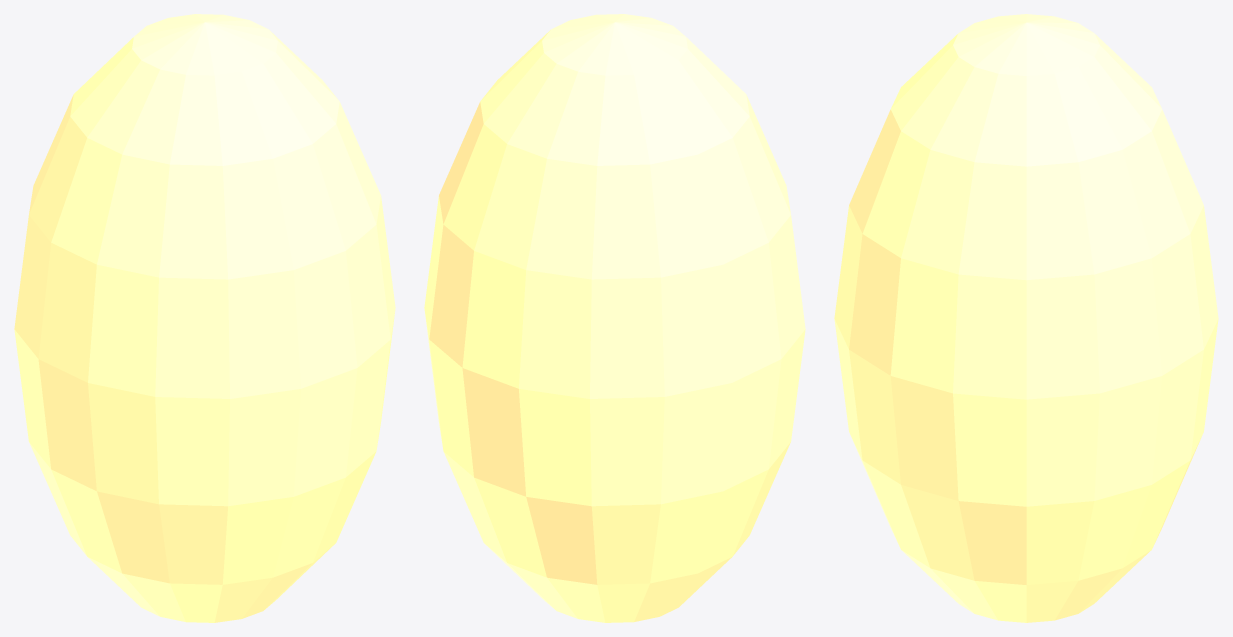
The model's file is RebirthBoostProp.glb.
3 renders of one model, left to right at view 1: azimuth 30°, elevation 25°; view 2: azimuth 150°, elevation 25°; view 3: azimuth 270°, elevation 25°, orthographic.
Parts seen in each view (by area): view 1: RebirthBoostProp_0; view 2: RebirthBoostProp_0; view 3: RebirthBoostProp_0.
Boxes of the visible parts, <box> form: RebirthBoostProp_0: <box>14,14,395,622</box>; RebirthBoostProp_0: <box>424,14,805,622</box>; RebirthBoostProp_0: <box>834,14,1218,622</box>.
Size of the model in its own units: 2.1 by 3.57 by 2.1.
